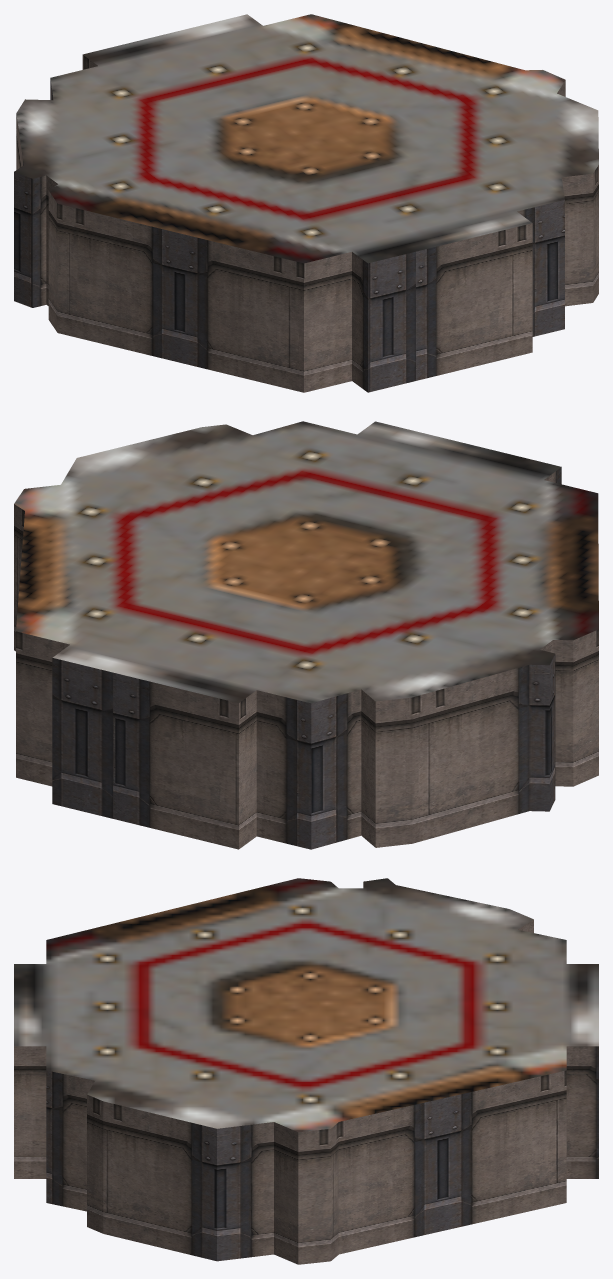
The model's file is bsealed_medium_a_45.glb.
3 renders of one model, top to bottom at view 1: azimuth 30°, elevation 25°; view 2: azimuth 150°, elevation 25°; view 3: azimuth 270°, elevation 25°, orthographic. The views are drawn at different scales.
Visible parts, largest first — view 1: buildings/saxarba/bsealed_medium/bsealed_medium_a_45; view 2: buildings/saxarba/bsealed_medium/bsealed_medium_a_45; view 3: buildings/saxarba/bsealed_medium/bsealed_medium_a_45.
Part boxes in pixels (x1,y1,x2,y2): buildings/saxarba/bsealed_medium/bsealed_medium_a_45: (14,14,598,392); buildings/saxarba/bsealed_medium/bsealed_medium_a_45: (14,421,598,849); buildings/saxarba/bsealed_medium/bsealed_medium_a_45: (14,878,598,1264).
Size of the model in its own units: 74 by 18 by 72.
